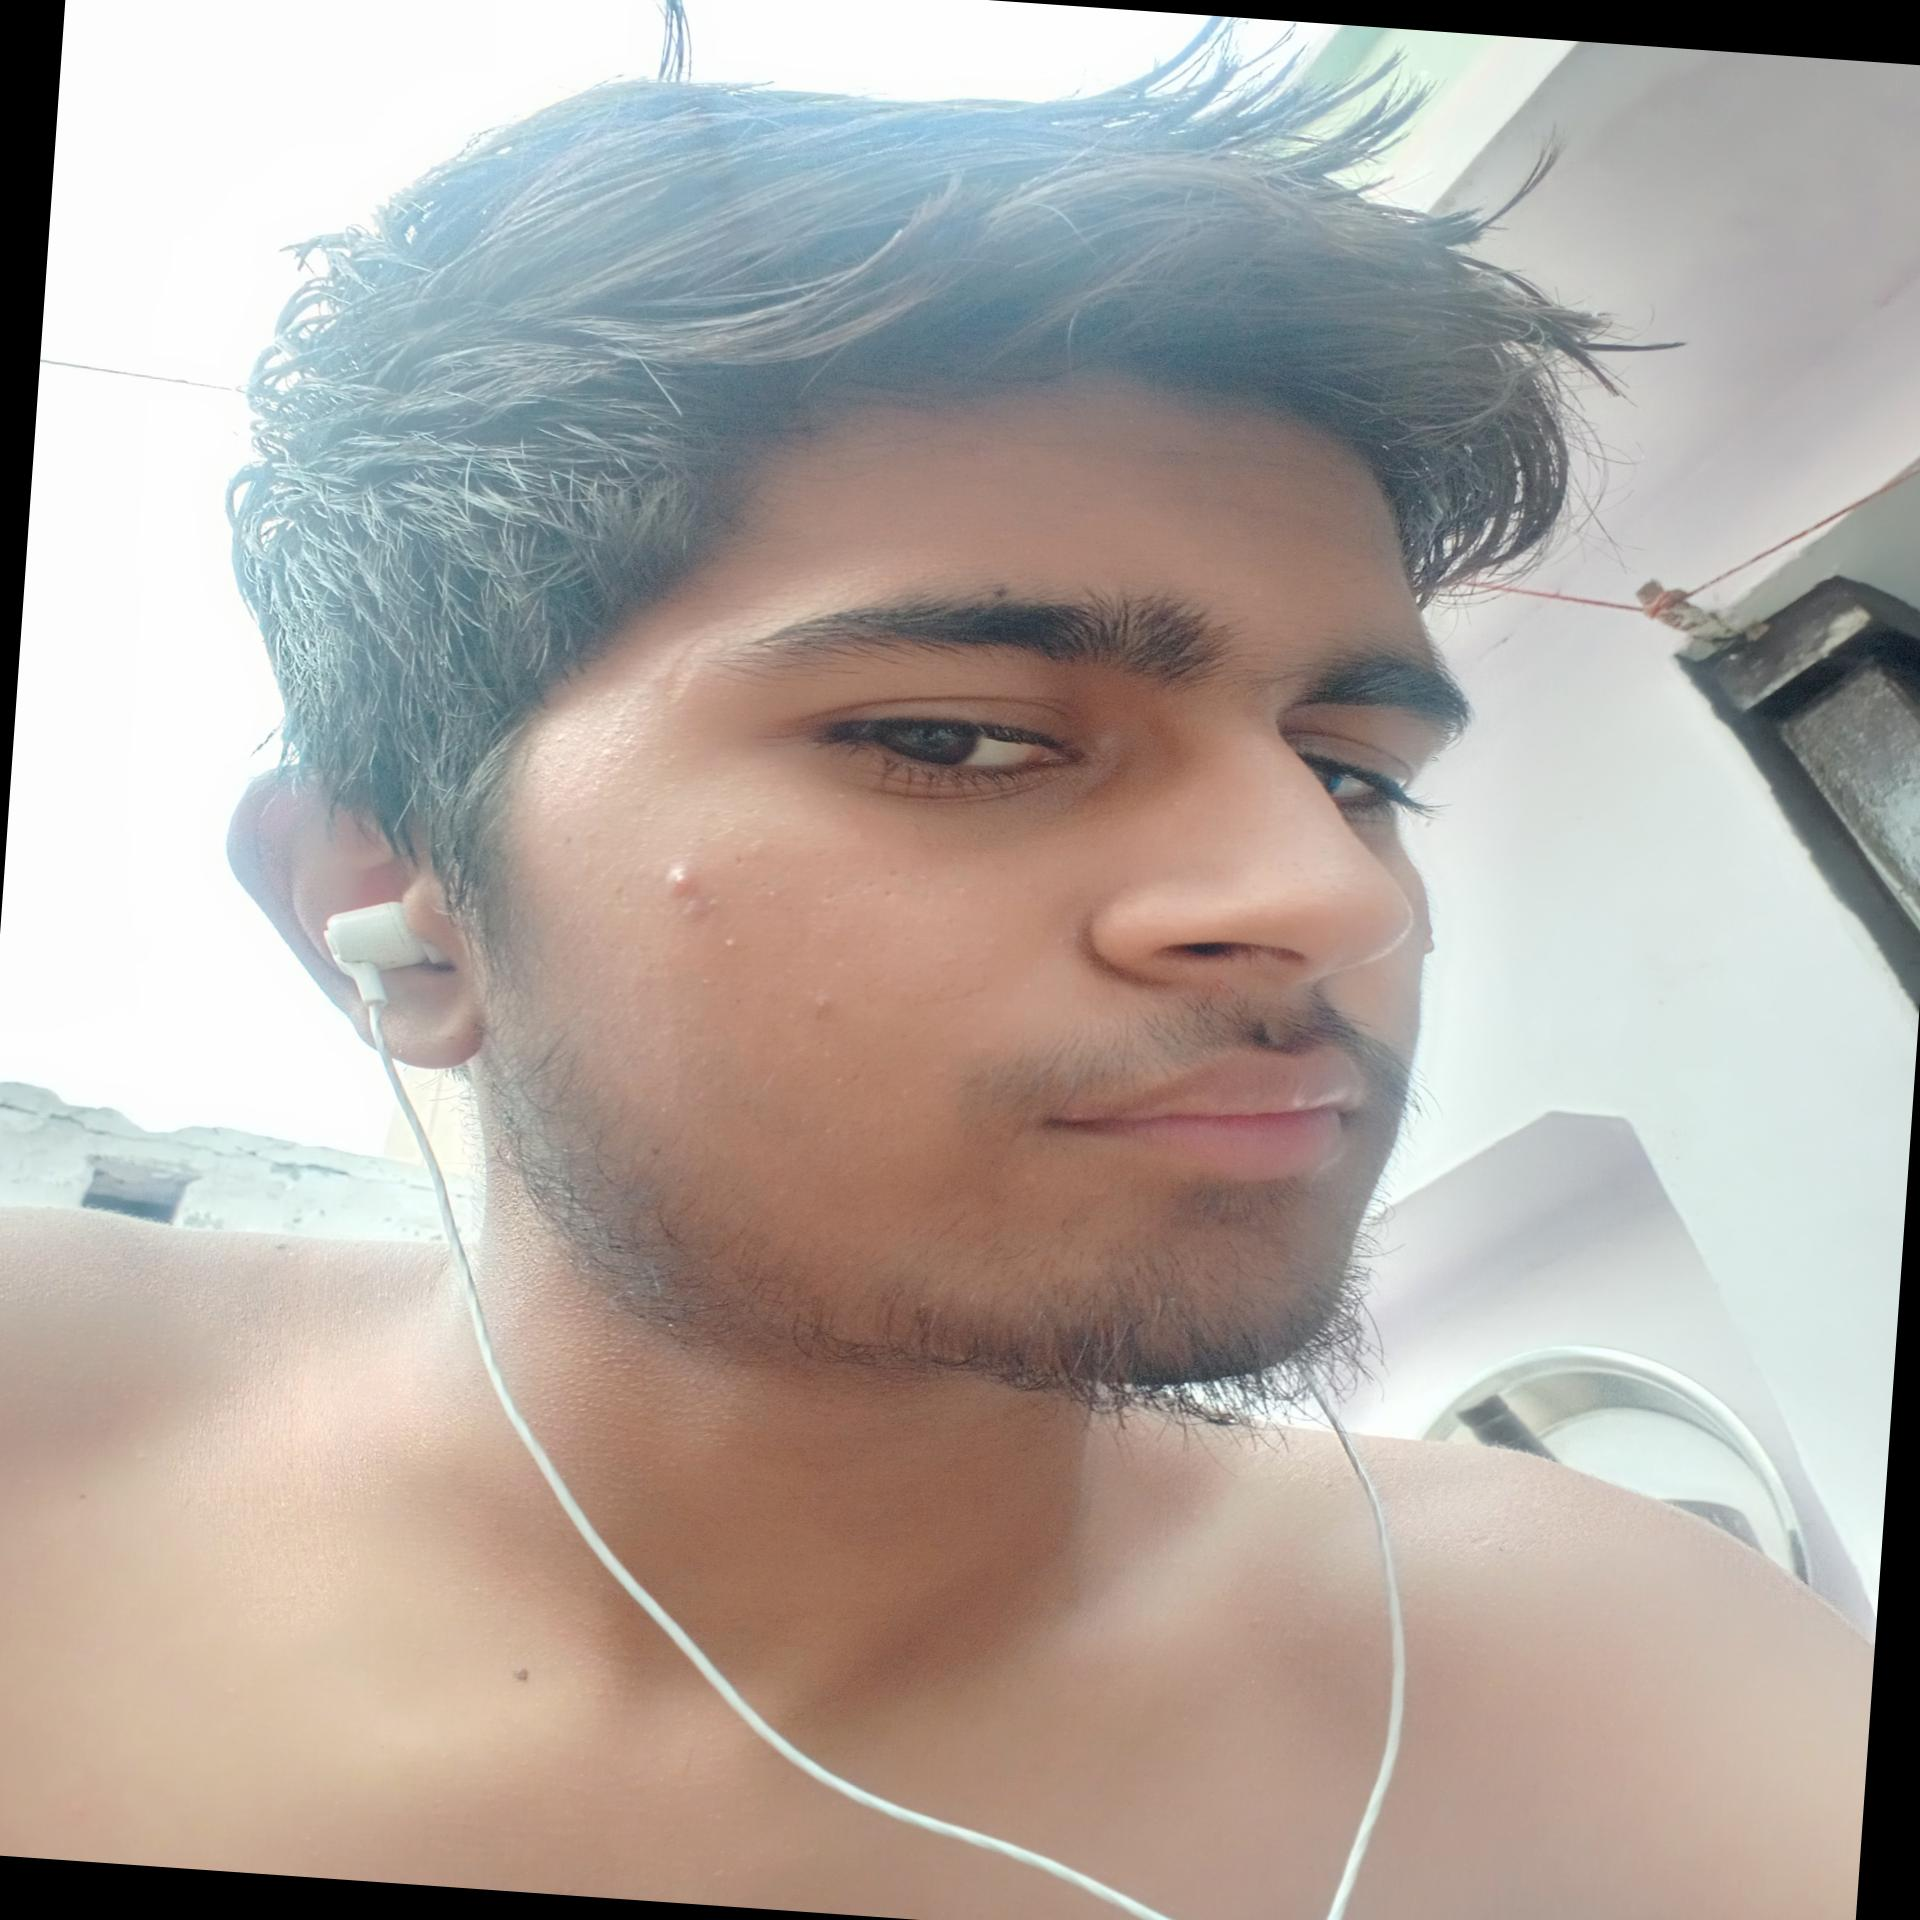Acne: (652, 851, 710, 898), (668, 893, 724, 928), (740, 832, 775, 867), (714, 927, 742, 964), (816, 986, 837, 1034), (761, 877, 788, 913)
Wrinkles: (949, 427, 1342, 471), (1046, 484, 1329, 527)
